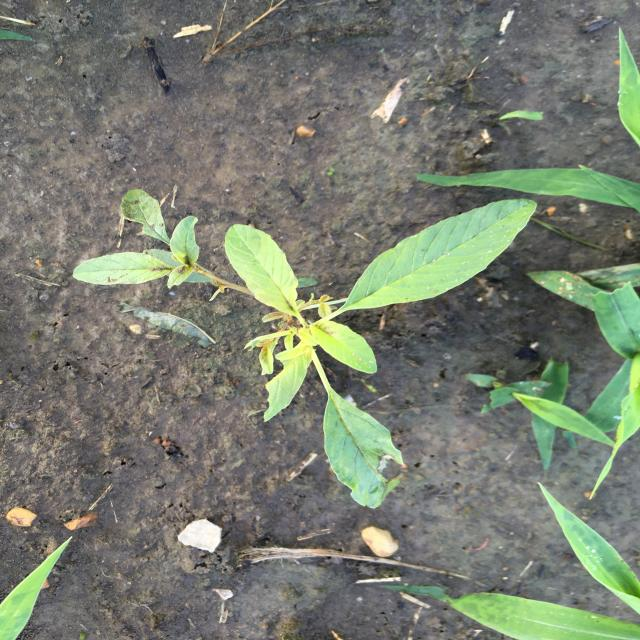Waterhemp: (69, 188, 541, 510)
